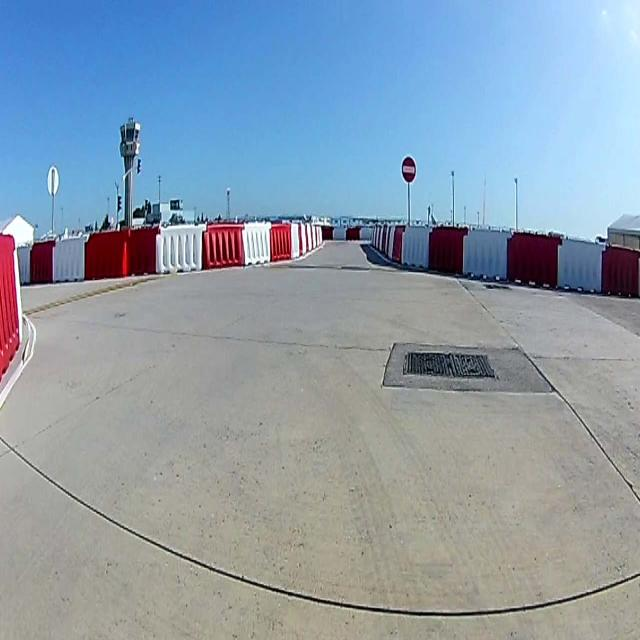girisyok: (401, 156, 417, 182)
